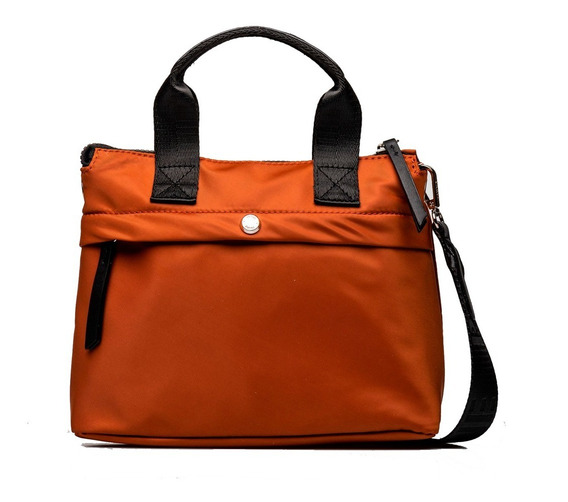cartera: (68, 24, 446, 450)
